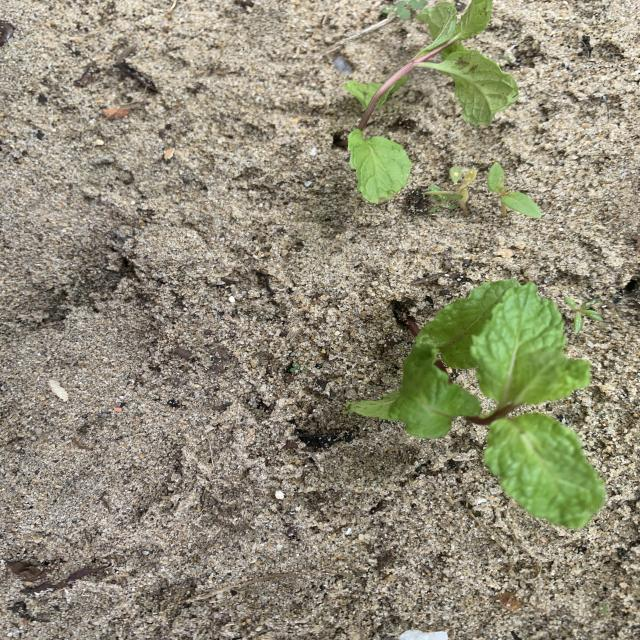crop: (348, 279, 605, 528), (345, 0, 518, 203)
weed: (487, 162, 541, 218), (434, 167, 477, 215), (564, 297, 603, 333), (381, 0, 428, 20), (284, 362, 314, 376)
